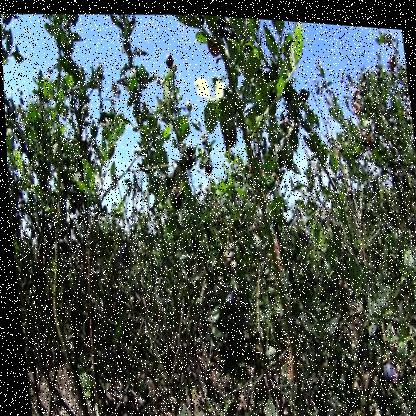mature: (376, 353, 397, 383), (223, 287, 235, 304), (167, 55, 173, 63)
young: (224, 238, 237, 269)
